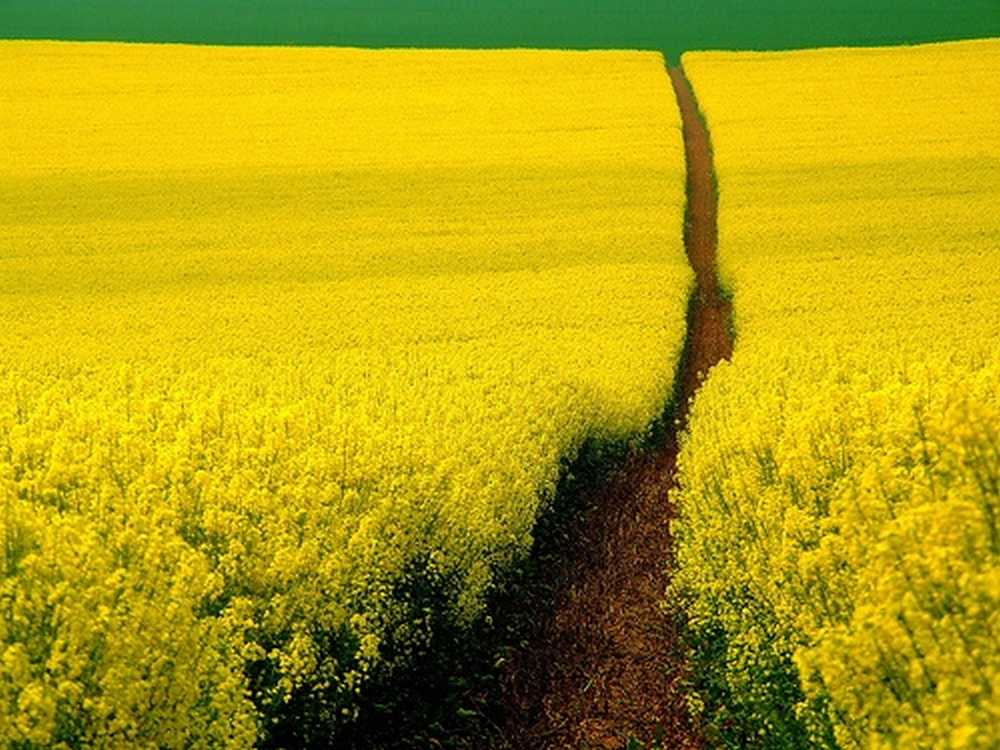mustard: (699, 62, 999, 748), (3, 42, 273, 749), (282, 51, 665, 419)
